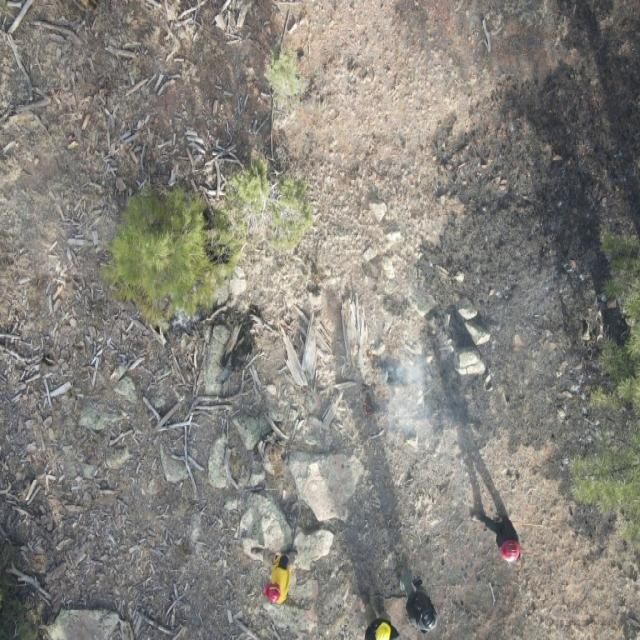fire: (356, 397, 379, 422), (364, 348, 382, 367)
smoke: (374, 304, 582, 444)
